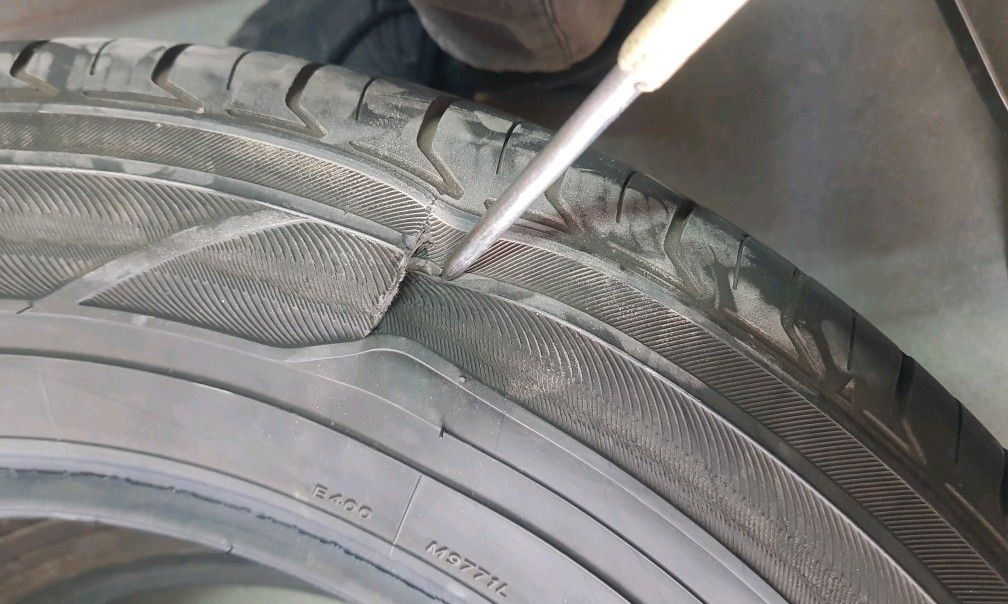cut: (349, 185, 449, 349)
